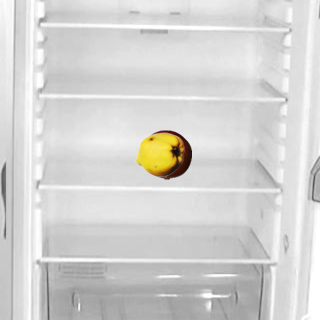Apple Braeburn: (141, 129, 191, 179)
Quince: (134, 129, 184, 179)
